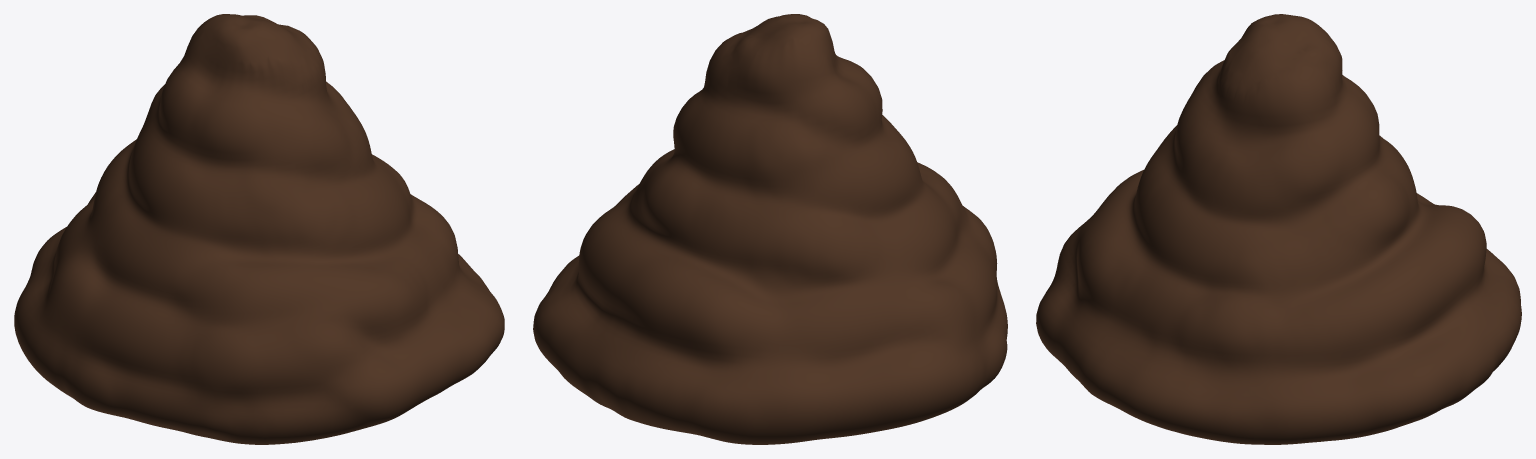
The model's file is poodoo.fbx.
3 renders of one model, left to right at view 1: azimuth 30°, elevation 25°; view 2: azimuth 150°, elevation 25°; view 3: azimuth 270°, elevation 25°, orthographic. The views are drawn at different scales.
Parts seen in each view (by area): view 1: Sphere; view 2: Sphere; view 3: Sphere.
Part boxes in pixels (x1,y1,x2,y2): Sphere: (14,14,504,444); Sphere: (533,14,1007,444); Sphere: (1036,14,1521,444).
Size of the model in its own units: 208 by 164 by 216.
